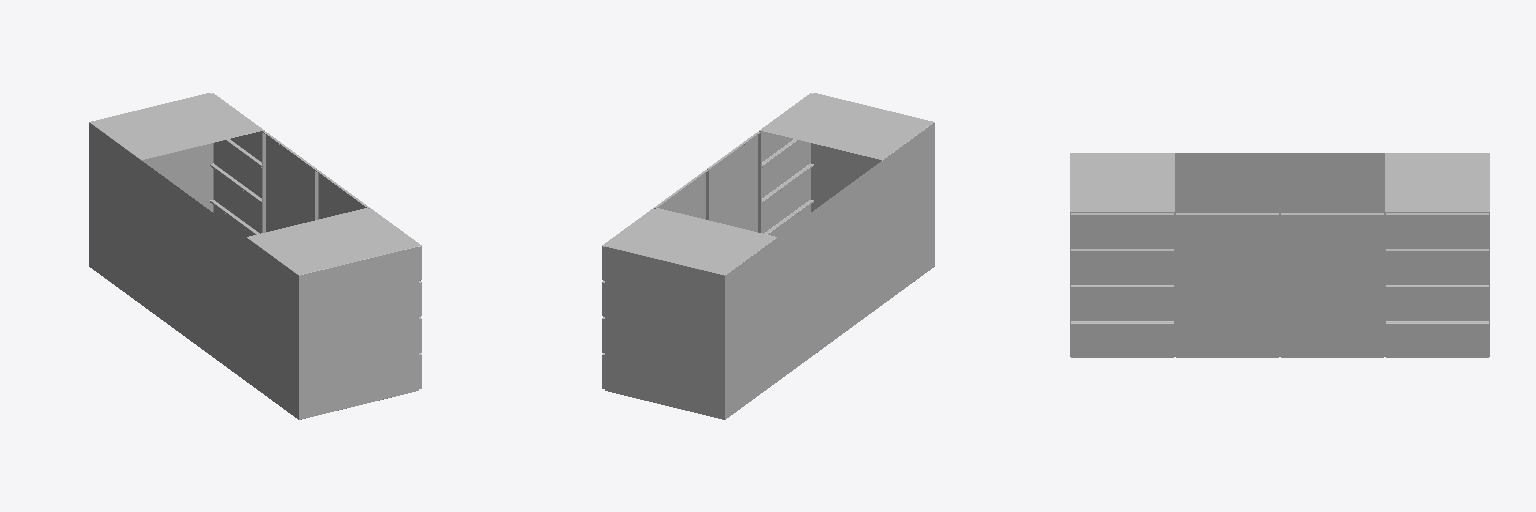
File: cooking_downpart.obj
3 renders of one model, left to right at view 1: azimuth 30°, elevation 25°; view 2: azimuth 150°, elevation 25°; view 3: azimuth 270°, elevation 25°, orthographic.
Parts seen in each view (by area): view 1: Cube.018_Cube.037; view 2: Cube.018_Cube.037; view 3: Cube.018_Cube.037.
Boxes of the visible parts, <box> form: Cube.018_Cube.037: <box>89,93,421,419</box>; Cube.018_Cube.037: <box>602,93,934,419</box>; Cube.018_Cube.037: <box>1070,153,1489,357</box>.
Size of the model in its own units: 0.7 by 0.78 by 2.05.